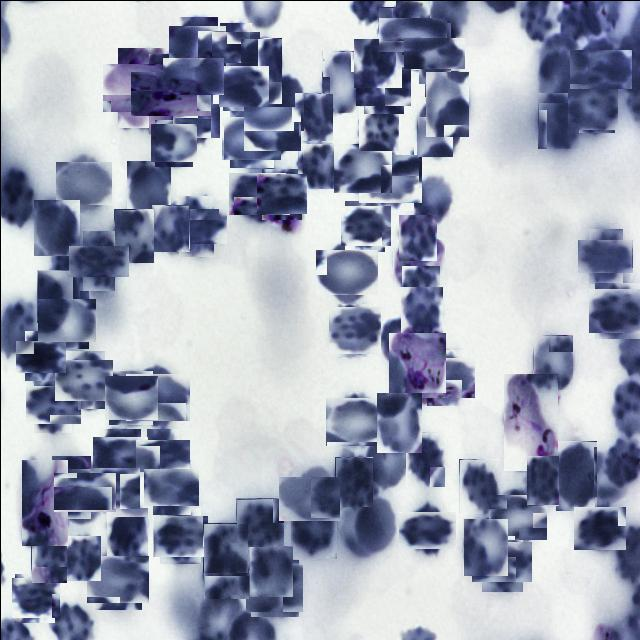red blood cell: (361, 150, 417, 206), (129, 368, 185, 424), (328, 393, 384, 449), (362, 426, 410, 491), (90, 550, 144, 606), (554, 440, 596, 510), (319, 244, 373, 298), (334, 140, 388, 194), (126, 160, 170, 226), (424, 70, 468, 136), (282, 471, 335, 524), (239, 37, 281, 103), (386, 8, 438, 61), (290, 499, 336, 558), (248, 562, 300, 614), (232, 167, 284, 219), (491, 490, 543, 542), (376, 392, 421, 452), (32, 198, 79, 255), (416, 95, 459, 156), (462, 517, 507, 575), (45, 461, 96, 512), (574, 43, 625, 94), (226, 112, 276, 164), (246, 103, 296, 154), (59, 466, 110, 516), (40, 294, 91, 344), (328, 304, 378, 354), (58, 158, 108, 208), (58, 354, 108, 404), (476, 536, 526, 586), (168, 50, 218, 100), (591, 284, 640, 335), (536, 48, 582, 102), (422, 352, 471, 402), (321, 50, 360, 112), (172, 20, 221, 69), (409, 173, 454, 226), (235, 497, 283, 546), (353, 495, 395, 551), (106, 373, 154, 422), (353, 38, 401, 87), (403, 506, 451, 554), (28, 380, 76, 428), (172, 202, 220, 250), (574, 504, 622, 552), (359, 62, 407, 110), (95, 432, 144, 479), (202, 548, 248, 598), (537, 92, 578, 148), (36, 269, 79, 322), (156, 512, 203, 560), (410, 29, 458, 76), (458, 458, 499, 513), (202, 522, 247, 572), (248, 545, 292, 596), (568, 84, 616, 130), (532, 334, 572, 389), (400, 281, 442, 333), (258, 170, 304, 217), (113, 208, 153, 262), (405, 431, 444, 486), (296, 142, 342, 188), (220, 62, 266, 108), (90, 464, 136, 510), (75, 237, 121, 283), (148, 464, 195, 509), (105, 506, 147, 556), (342, 203, 388, 248), (582, 234, 628, 278), (12, 575, 56, 620), (30, 528, 66, 582), (269, 74, 303, 130), (334, 456, 372, 506), (140, 434, 184, 477), (358, 103, 398, 150), (294, 92, 332, 140), (19, 334, 62, 376), (152, 121, 194, 164), (151, 204, 189, 251), (398, 214, 436, 260), (174, 100, 216, 141), (64, 535, 100, 580), (215, 26, 255, 66), (526, 456, 558, 506), (377, 6, 409, 54)
trophozoite: (503, 373, 557, 470), (109, 55, 173, 119), (21, 459, 67, 545), (140, 62, 202, 124), (388, 332, 445, 392), (392, 238, 444, 286)
